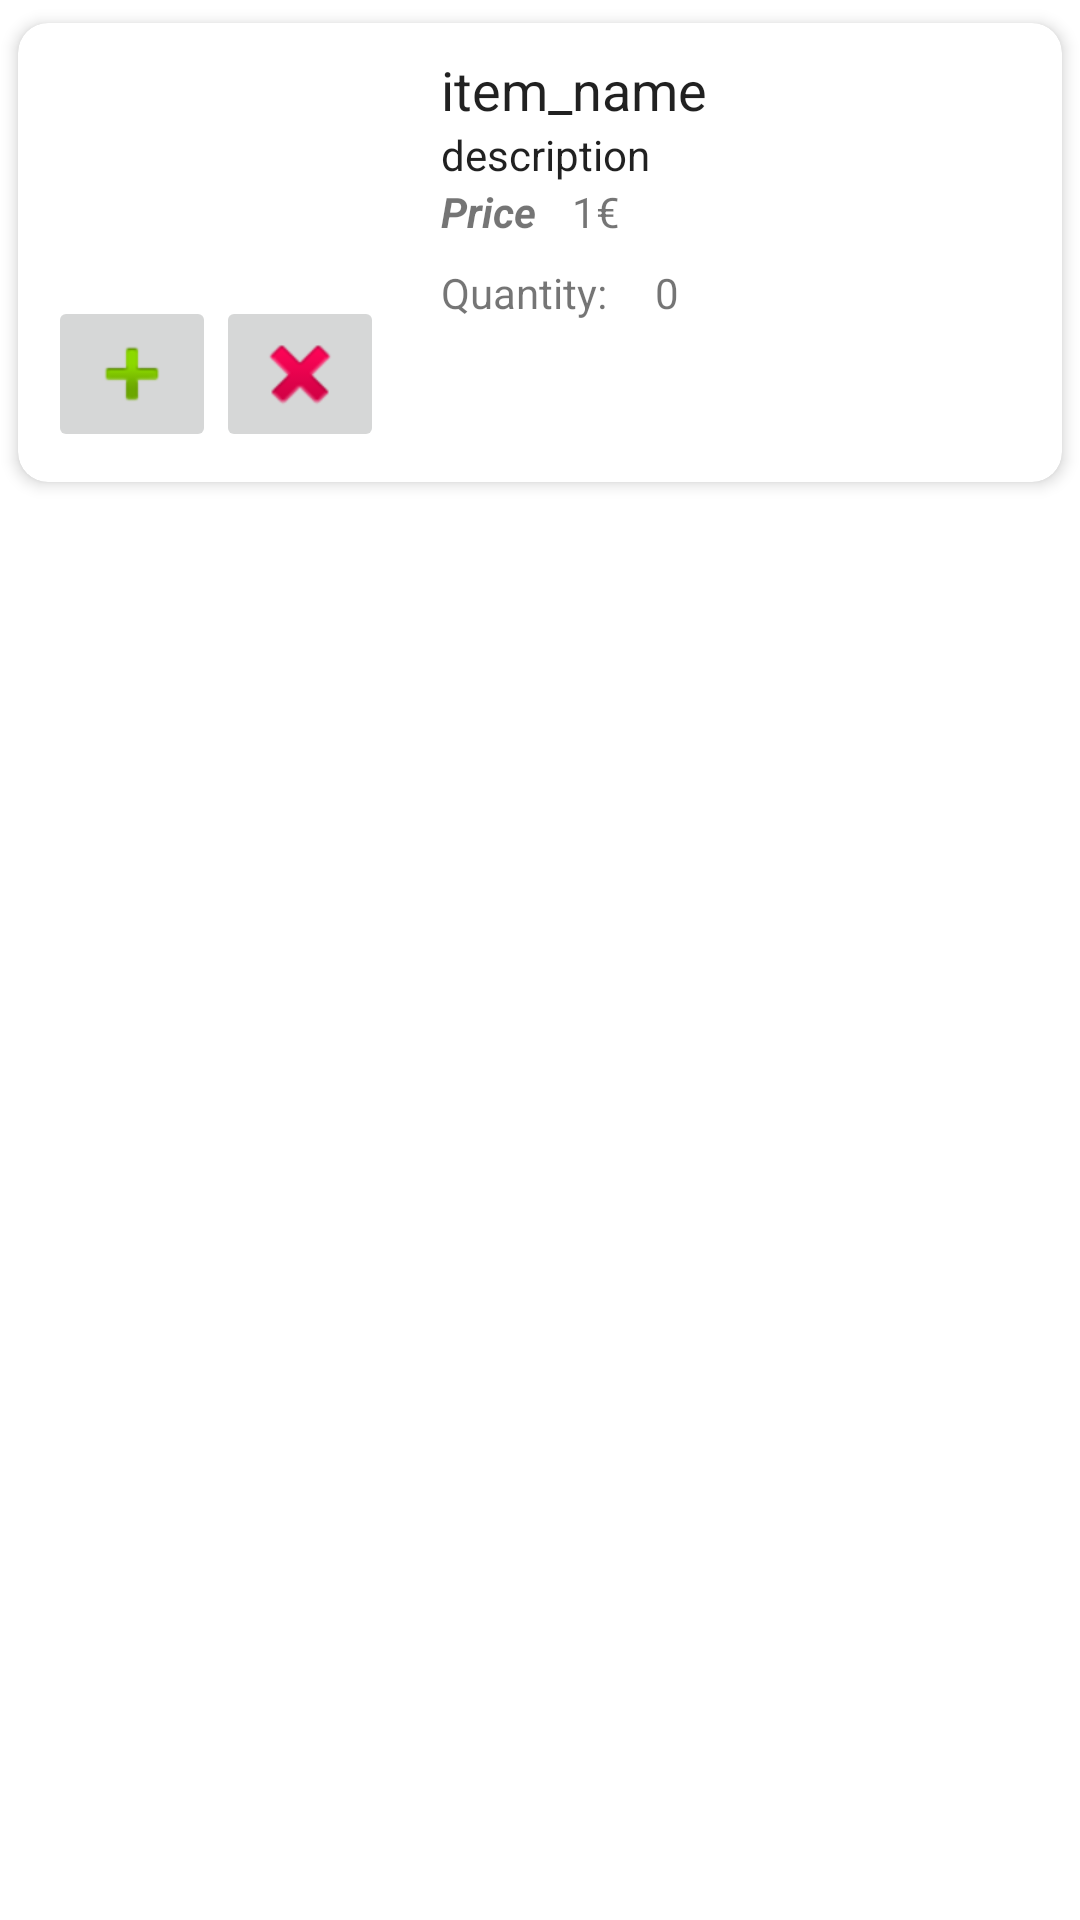

Where icons sit on this 1080w x 1920h app screen, as [x1=x1, y1=y1, x2=x2, y2=y2]:
add: [x1=60, y1=314, x2=204, y2=434]
delete: [x1=228, y1=314, x2=372, y2=434]
